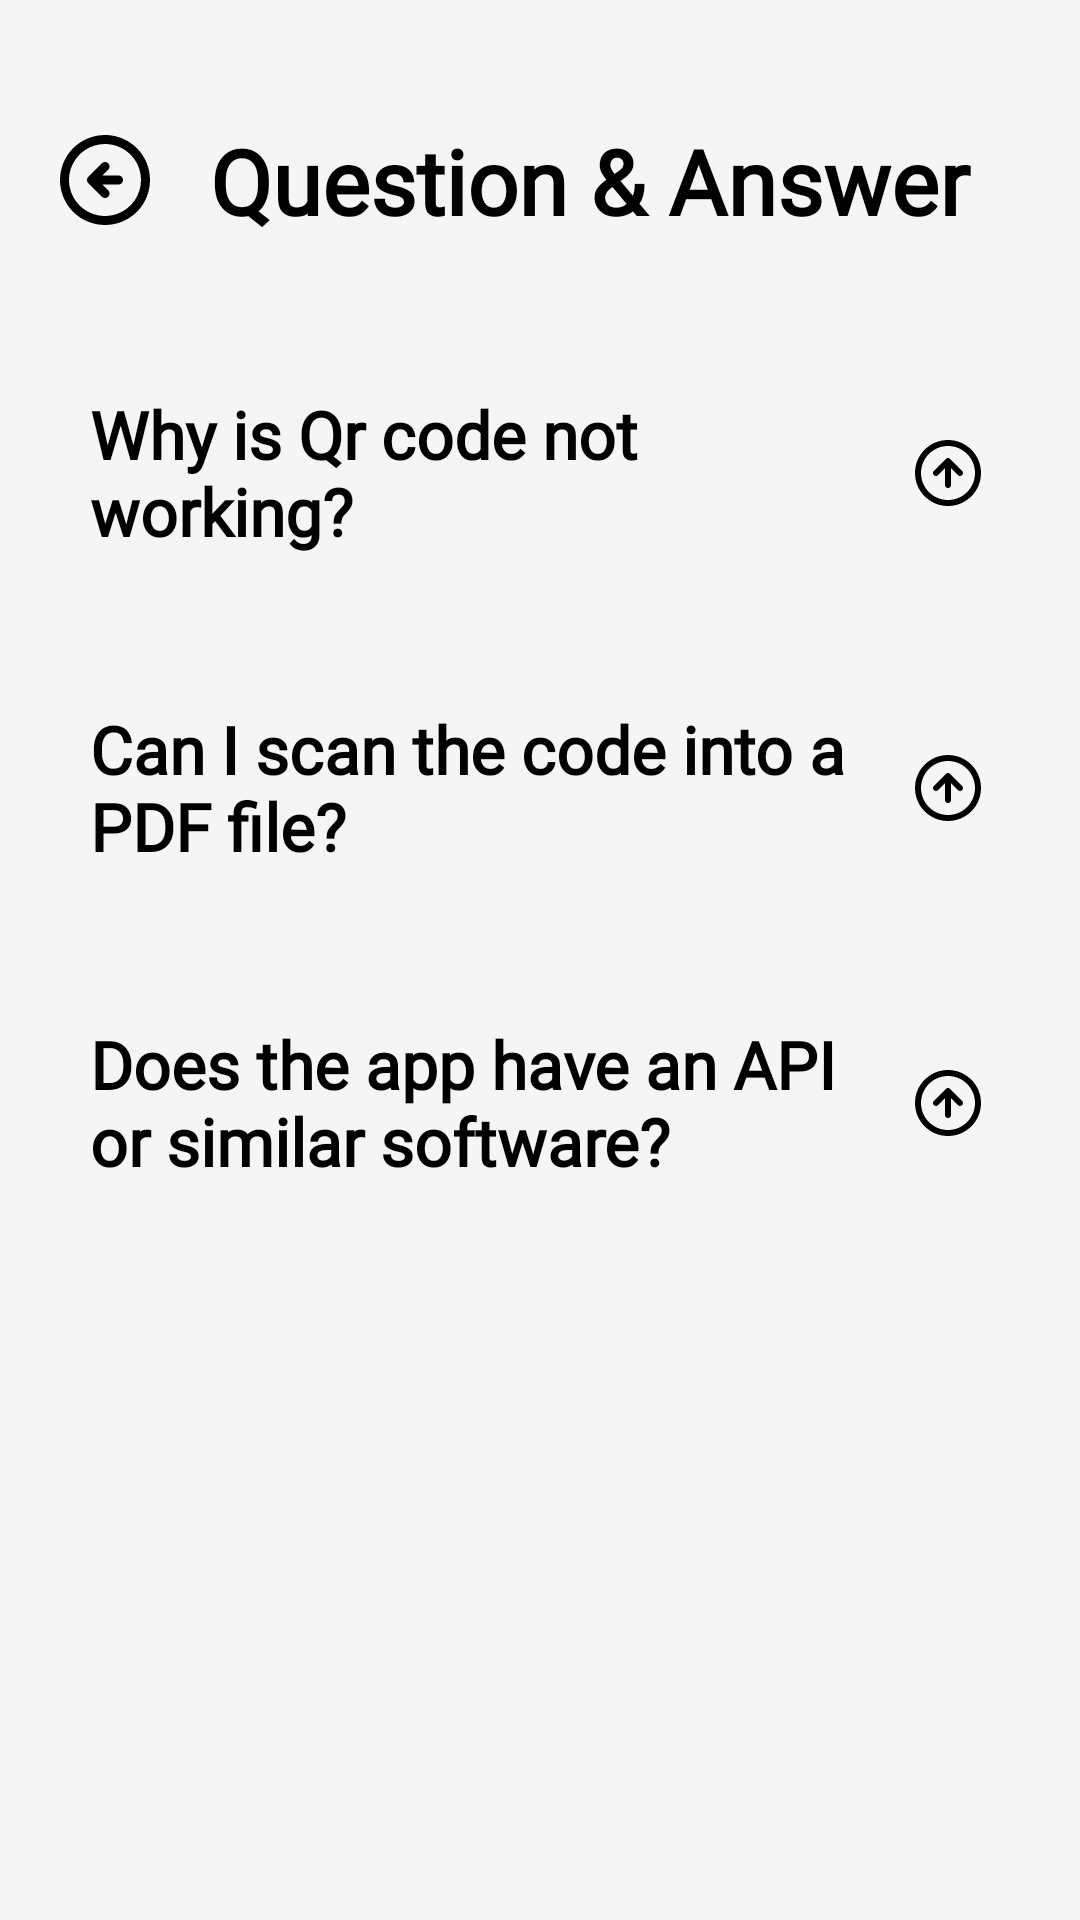

Icons on this 1080x1920 Android screen, each with the point to tap as (x,y):
back: (105,180)
